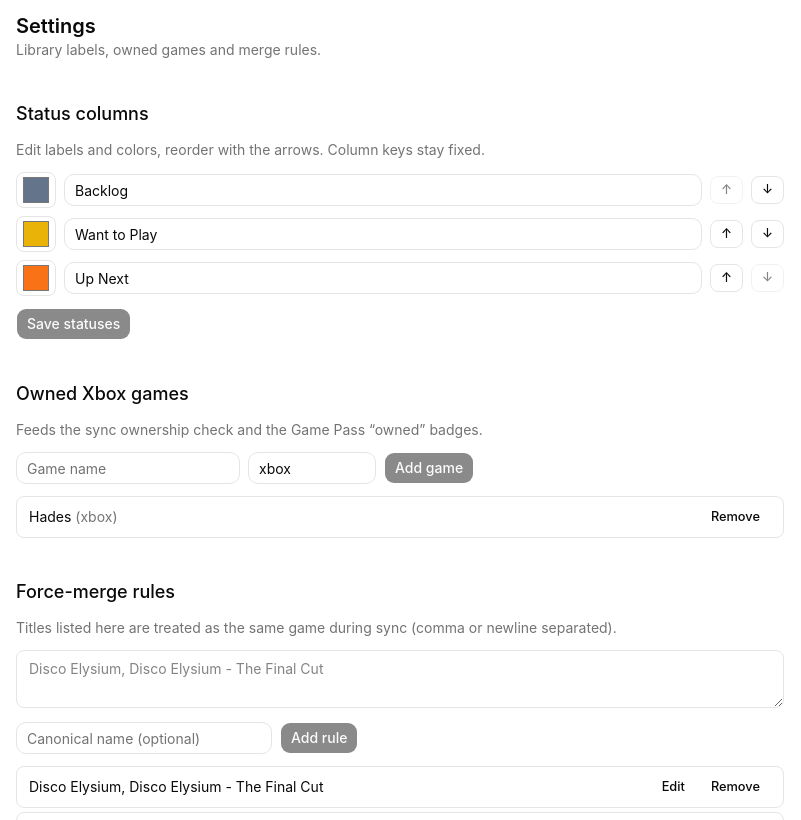
Test case: SettingsPage › edits a force-merge rule through the prefilled form
Click the button with aria-label "Edit rule Disco Elysium" at (673, 787), box [651,773,696,801]
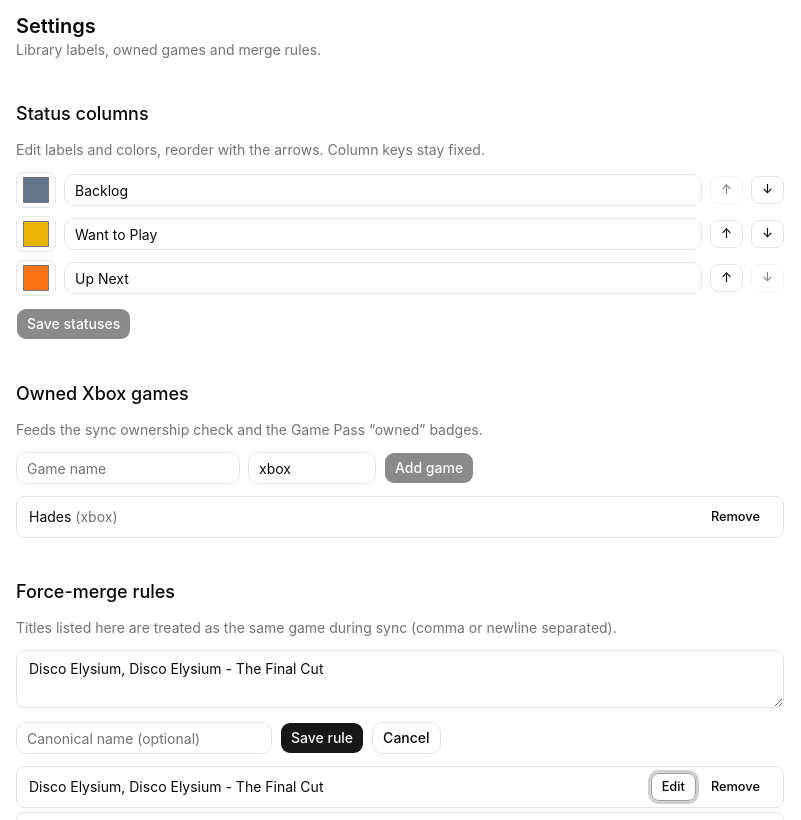
Result: the text box named "Games to merge" holds "Disco Elysium, Disco Elysium - The Final Cut"
Type "Disco Elysium, DE Final Cut" into the text box named "Games to merge" at (400, 679), box [16,650,784,708]
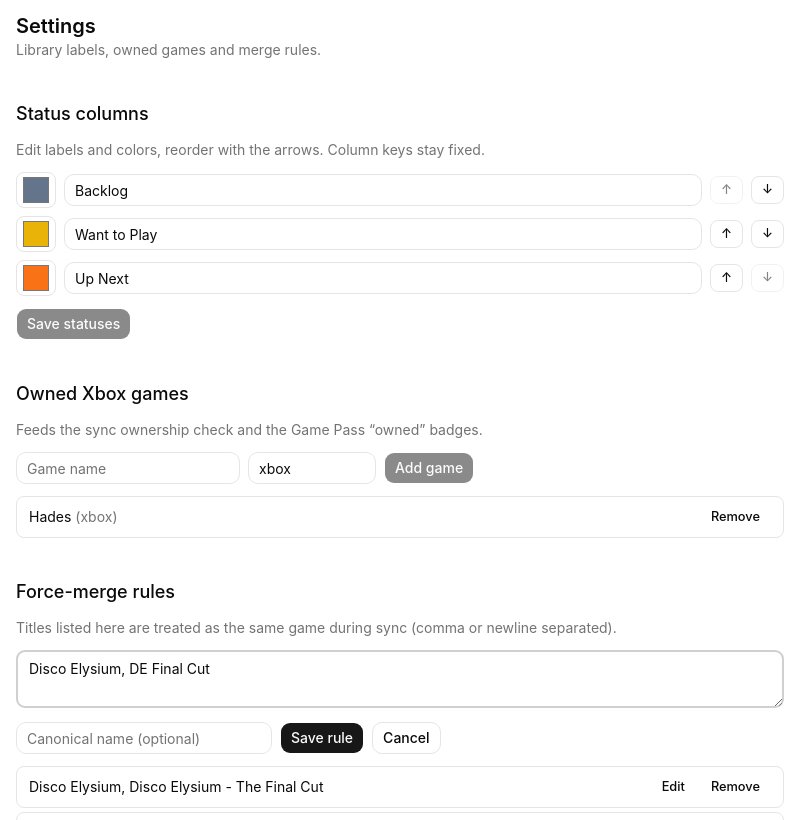
Click the button "Save rule" at (322, 738), box [280,722,364,754]
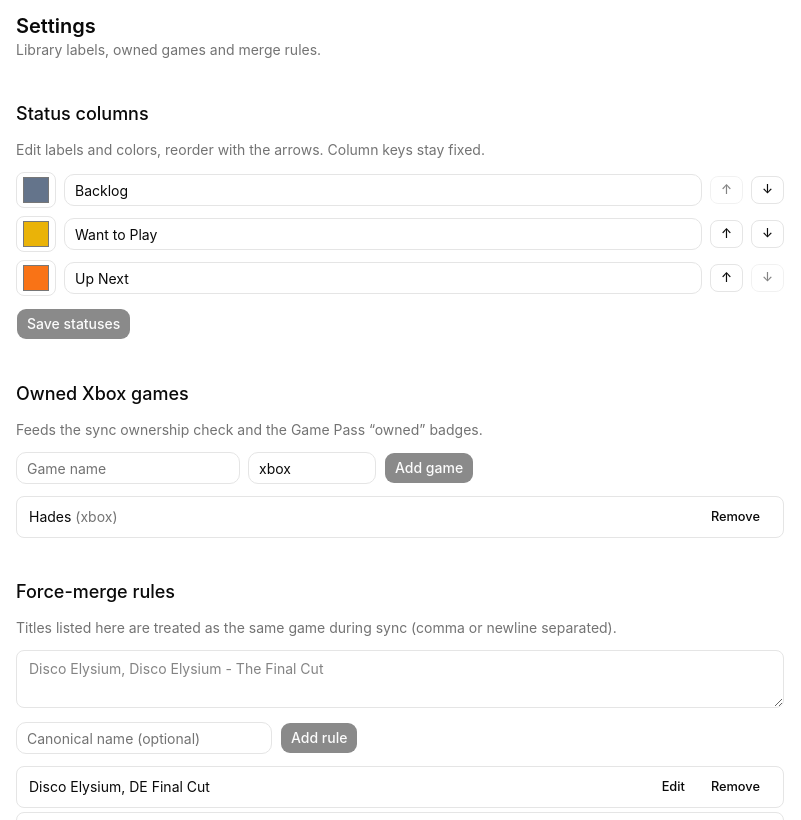
Result: the text "Disco Elysium, DE Final Cut" is shown at [29,777,210,797]
